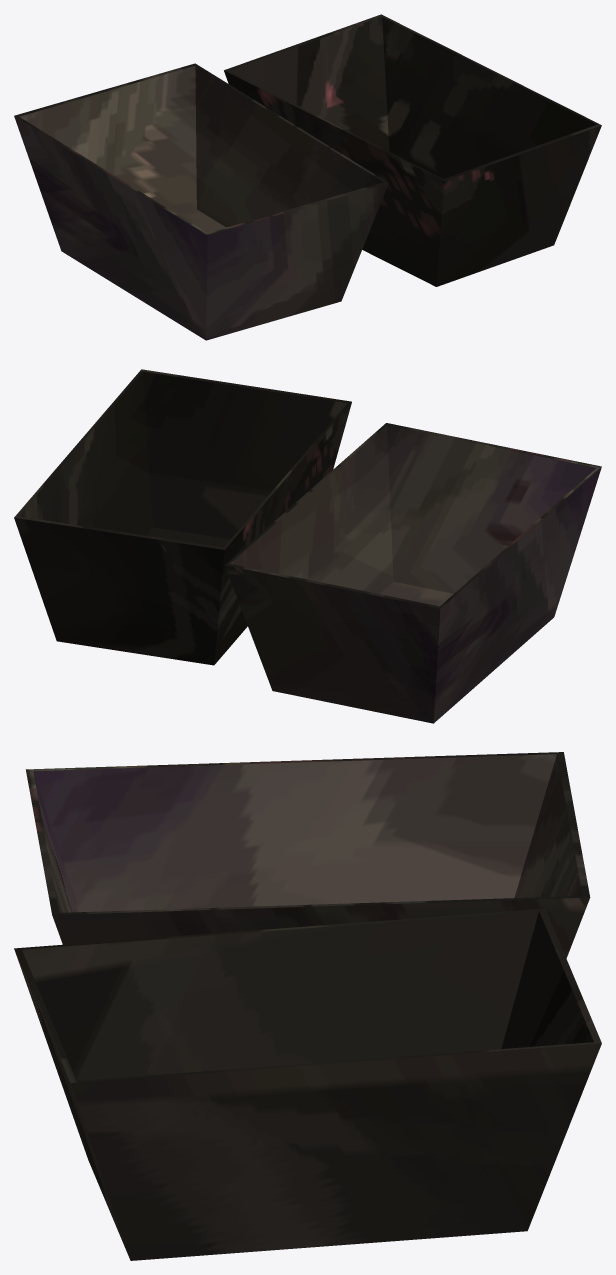
The model's file is SM_Bins.fbx.
The picture shows the model from 3 angles, top to bottom: view 1: azimuth 30°, elevation 25°; view 2: azimuth 150°, elevation 25°; view 3: azimuth 270°, elevation 25°; orthographic projection. The views are drawn at different scales.
Visible parts, largest first — view 1: SM_dishbins; view 2: SM_dishbins; view 3: SM_dishbins.
Part boxes in pixels (left/top/right/bottom): SM_dishbins: left=14, top=14, right=601, bottom=340; SM_dishbins: left=14, top=369, right=601, bottom=723; SM_dishbins: left=14, top=752, right=601, bottom=1260.
Bounding box in the file's own units: 104 × 29.38 × 78.34.
